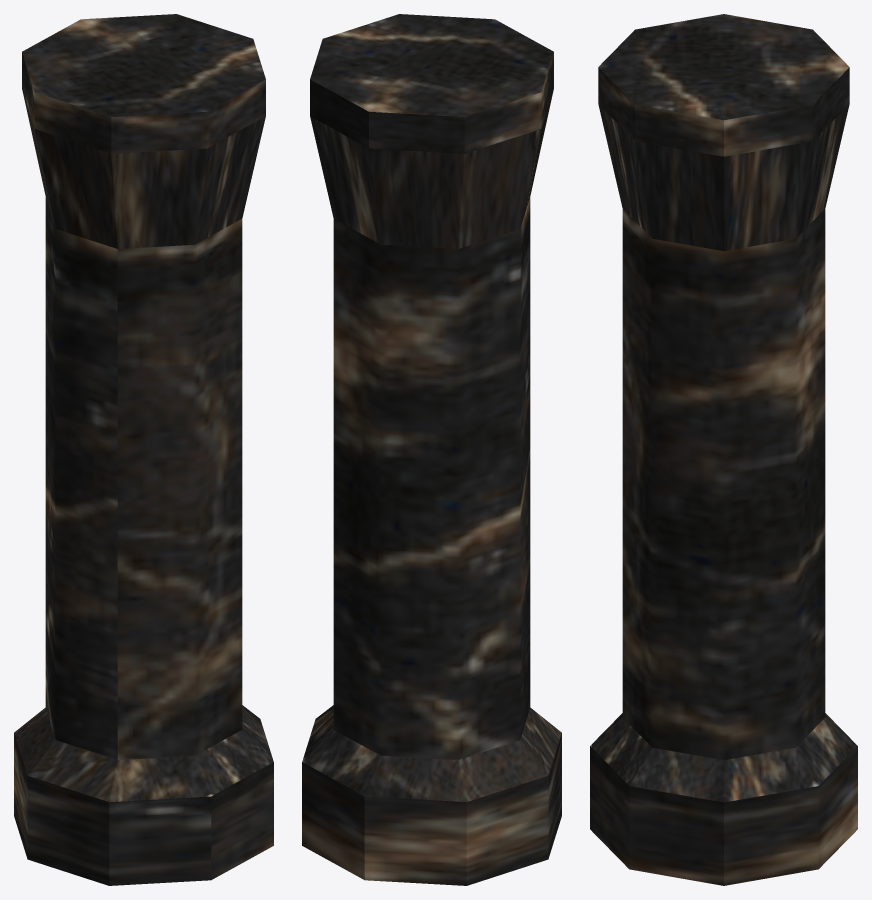
3 views of the same model, side by side, from view 1: azimuth 30°, elevation 25°; view 2: azimuth 150°, elevation 25°; view 3: azimuth 270°, elevation 25° (orthographic).
Visible parts, largest first — view 1: a62; view 2: a62; view 3: a62.
Boxes of the visible parts, x1,y1,x2,y2 form: a62: (14, 14, 273, 885); a62: (302, 14, 561, 885); a62: (590, 14, 857, 885).
Bounding box in the file's own units: 254 × 798 × 254.
